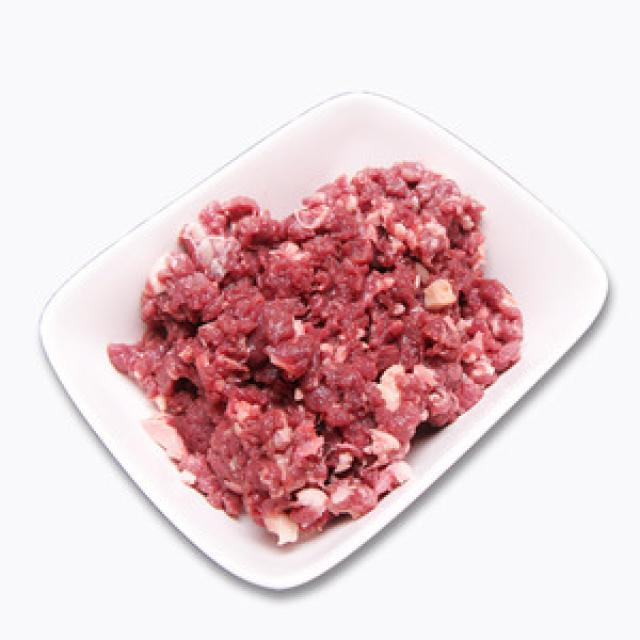pork: (61, 96, 560, 522)
